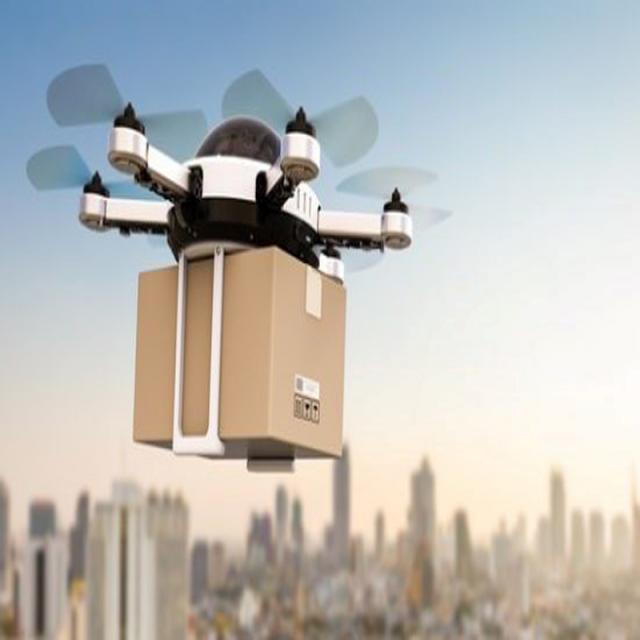drones: (21, 43, 457, 497)
